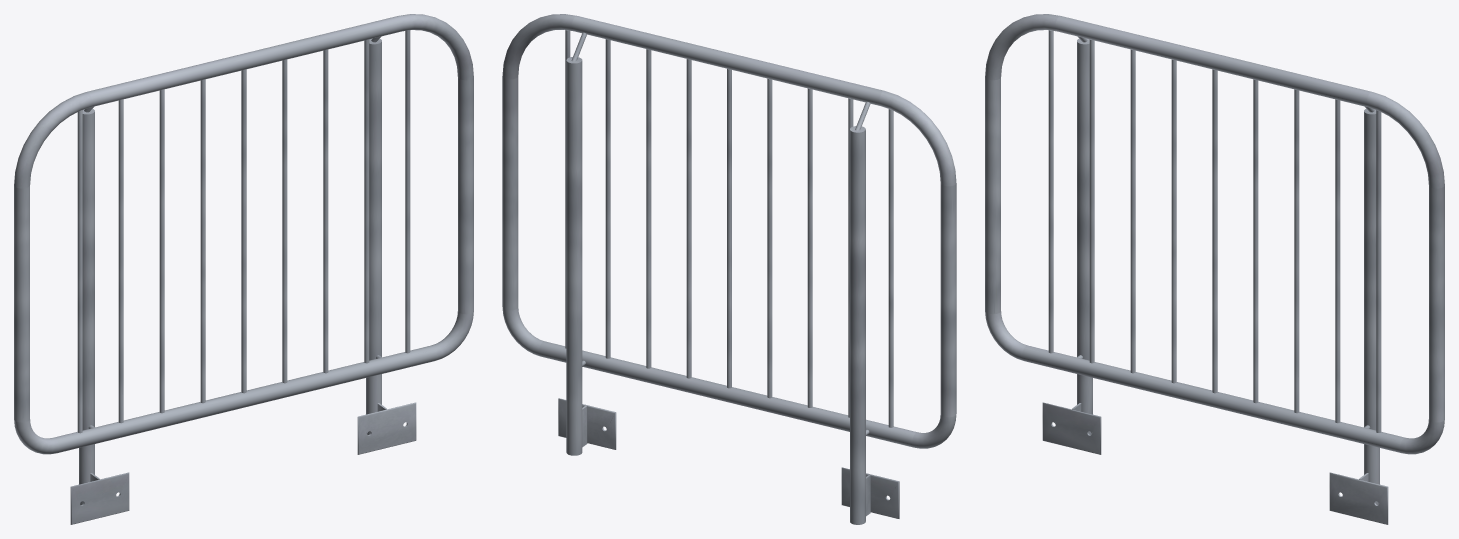
File: gelaender-einzl.gltf
The picture shows the model from 3 angles, left to right: view 1: azimuth 30°, elevation 25°; view 2: azimuth 150°, elevation 25°; view 3: azimuth 330°, elevation 25°; orthographic projection.
Visible parts, largest first — view 1: SK1802_Geländer_einzl.001; view 2: SK1802_Geländer_einzl.001; view 3: SK1802_Geländer_einzl.001.
Boxes of the visible parts, x1,y1,x2,y2 form: SK1802_Geländer_einzl.001: [14, 14, 473, 524]; SK1802_Geländer_einzl.001: [502, 14, 956, 524]; SK1802_Geländer_einzl.001: [985, 14, 1444, 524].
Size of the model in its own units: 1.25 by 1.12 by 0.102.
1 material, 1 textured.
